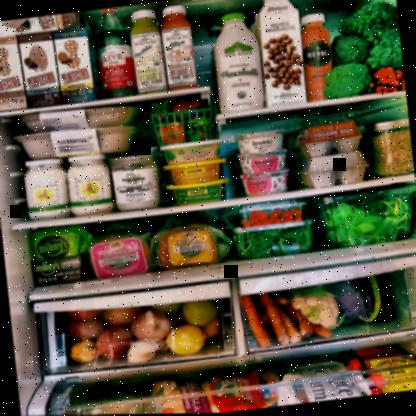apple: (131, 308, 172, 343), (93, 324, 132, 358), (180, 300, 218, 326), (68, 316, 106, 342), (104, 305, 142, 326)
broccoli: (329, 4, 405, 96)
carrot: (242, 296, 272, 350), (260, 294, 289, 346), (278, 307, 303, 345), (295, 314, 312, 338)
cauliflower: (292, 290, 340, 330)
eggs: (298, 152, 369, 190), (298, 122, 362, 158)
lemon: (166, 324, 210, 356)
milk: (254, 0, 308, 107), (210, 10, 265, 112)
strawberries: (157, 122, 182, 144), (168, 99, 200, 114), (189, 113, 210, 129)
tomato: (251, 210, 262, 220), (282, 210, 293, 218), (268, 213, 280, 220), (292, 209, 302, 217), (258, 214, 268, 222), (252, 221, 262, 227), (274, 219, 282, 225), (264, 221, 272, 227)
